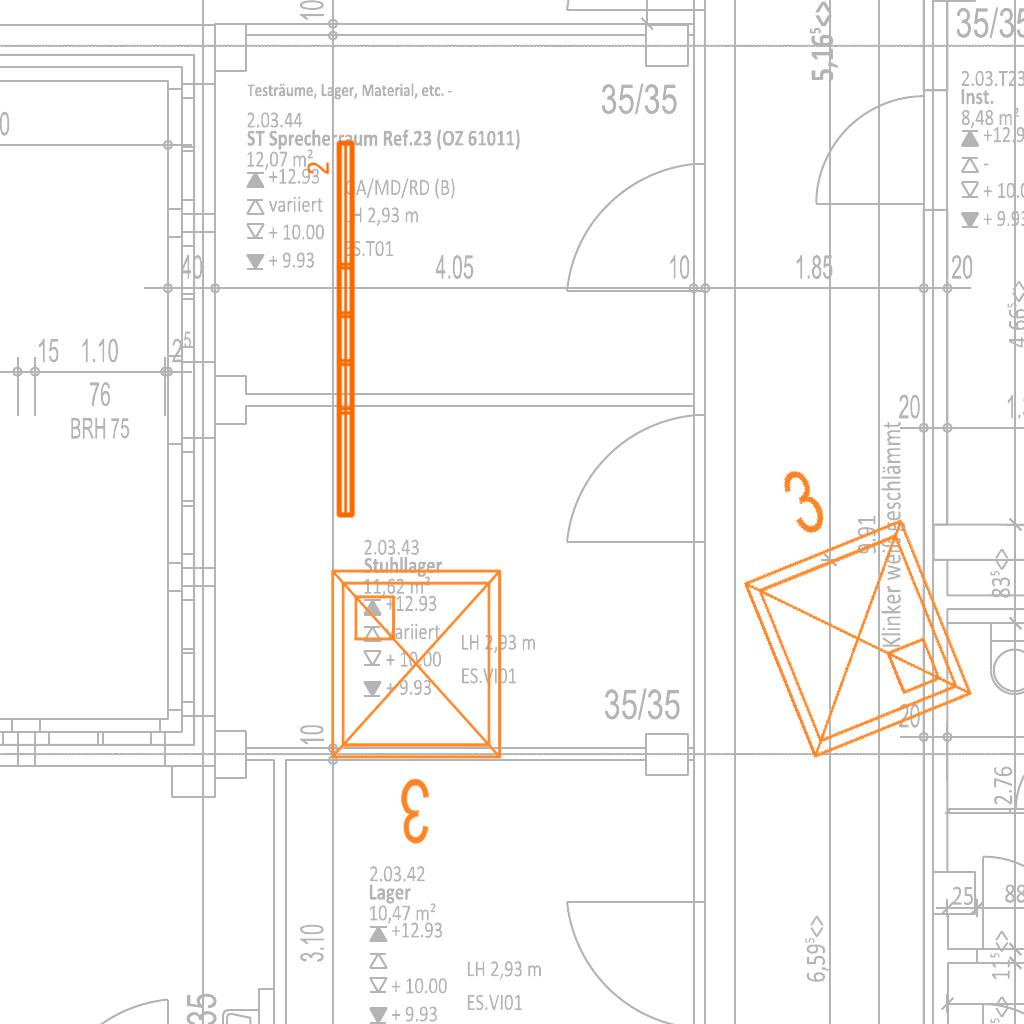Ambulanz_Pendelleuchte_LED: (305, 136, 361, 523)
Einbaudownlights_LED_Konferenzraeume: (686, 423, 992, 781), (316, 555, 524, 855)
